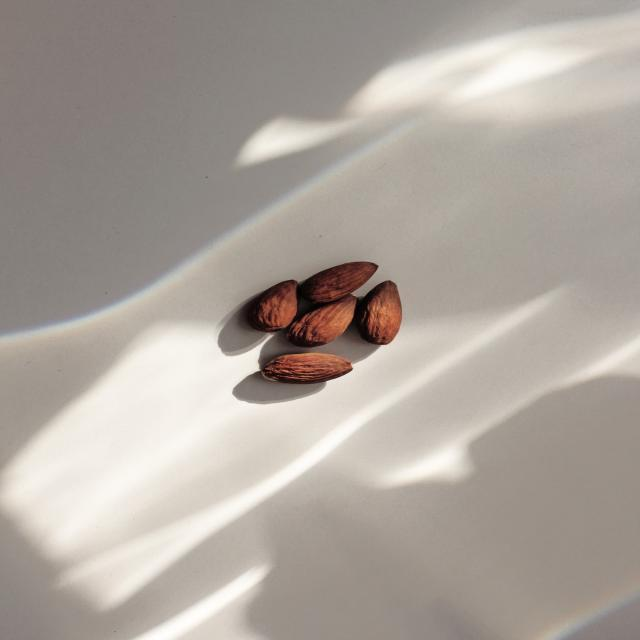almond: (286, 296, 358, 345), (297, 261, 380, 300), (358, 281, 402, 345), (246, 279, 299, 332), (261, 354, 353, 383)
